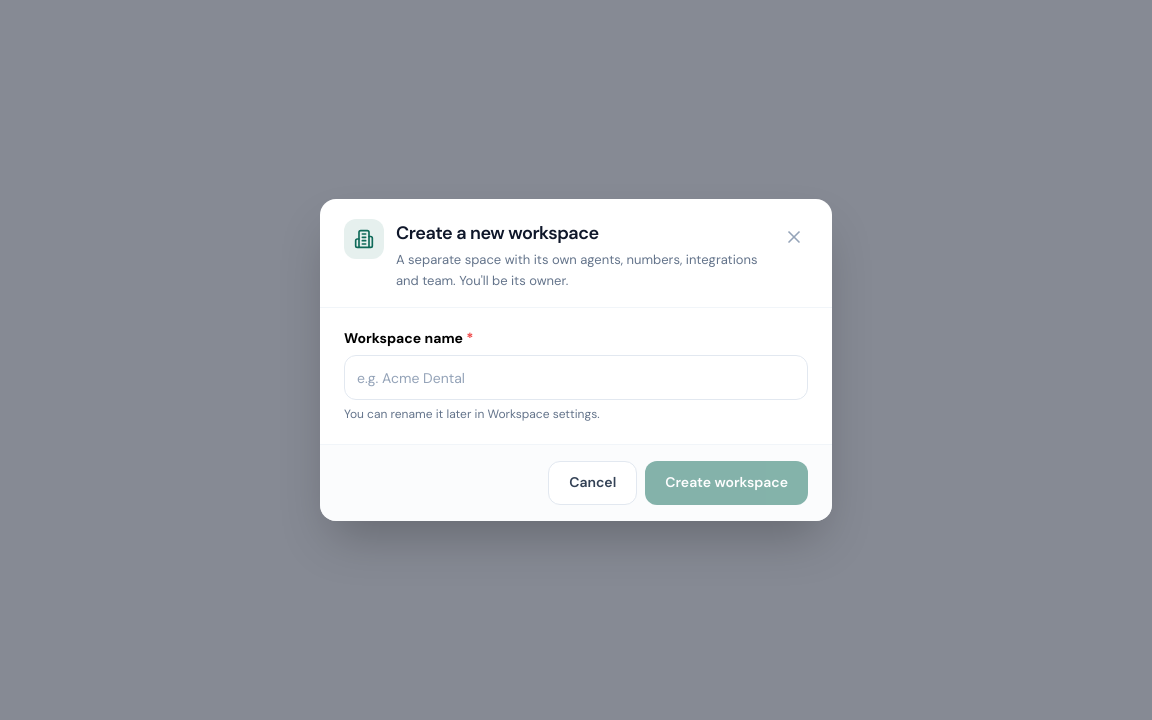
Test case: NewWorkspaceDialog › shows an API error inside the dialog
The width and height of the screenshot is (1152, 720).
Step 1. Type "Vconekt LLC" into the field labelled "Workspace name *" → [576, 378], box x1=344 y1=355 x2=808 y2=400
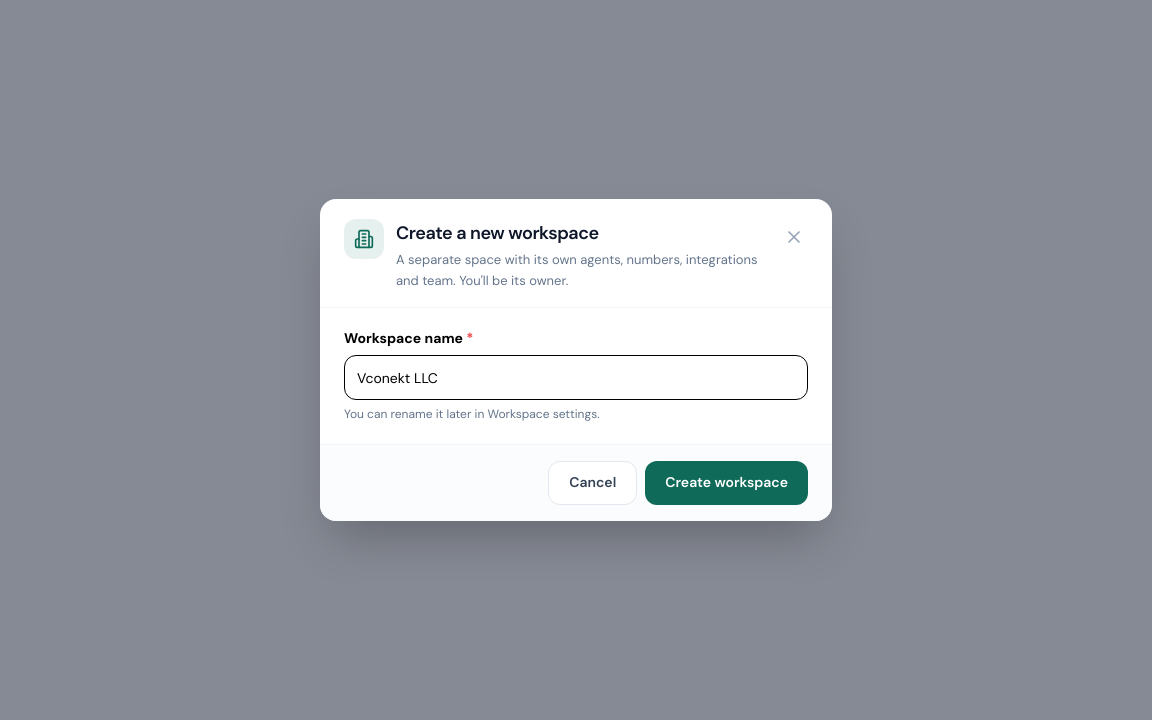
Step 2. Click the button "Create workspace" → [727, 483], box x1=645 y1=461 x2=808 y2=505
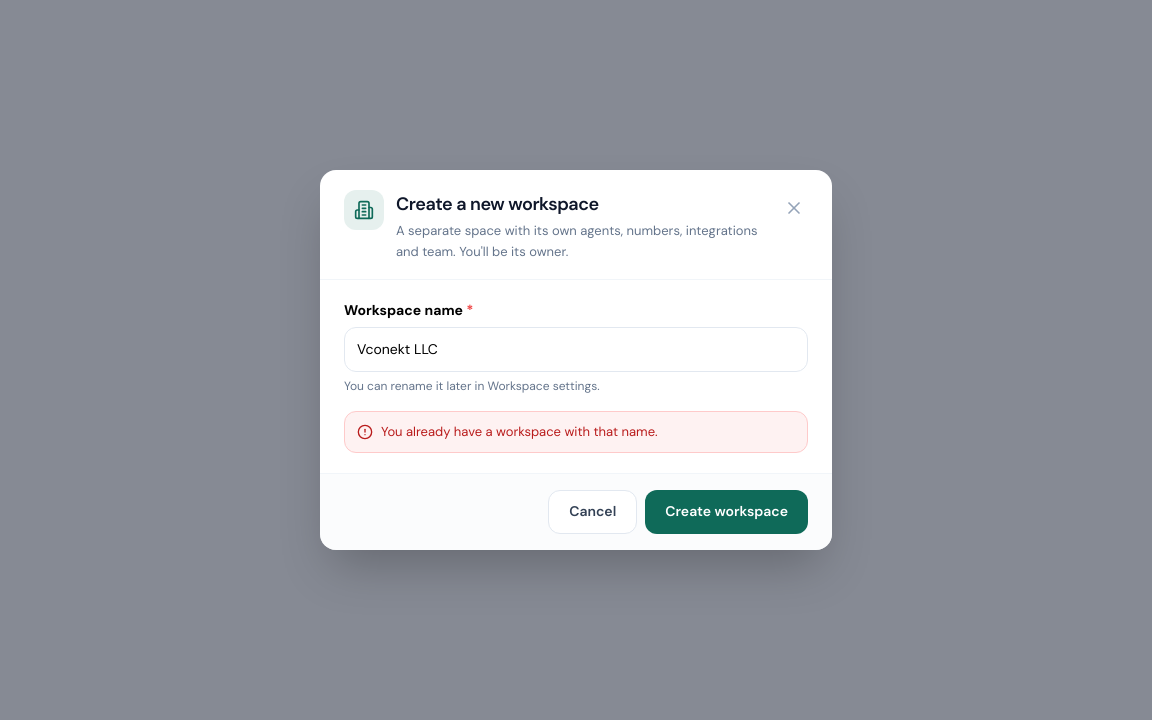
Check: the message "You already have a workspace with that name." is shown, box x1=344 y1=411 x2=808 y2=453
